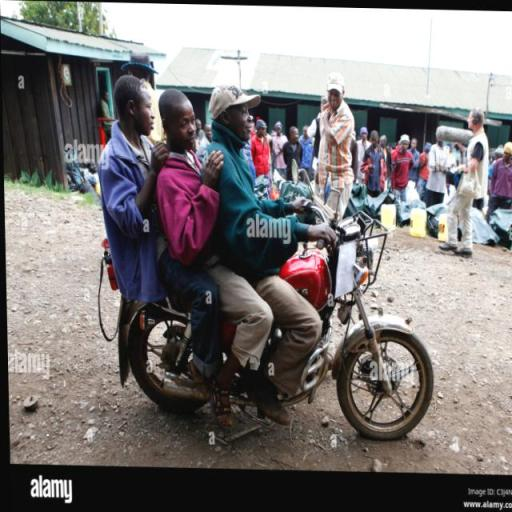tripple riding: (94, 66, 336, 452)
